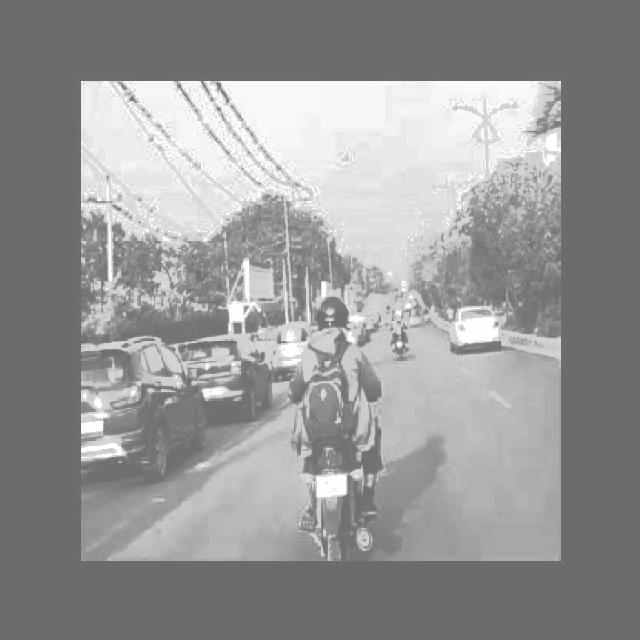Car: (76, 331, 186, 482), (186, 331, 269, 425), (446, 306, 516, 357), (271, 318, 308, 377)
